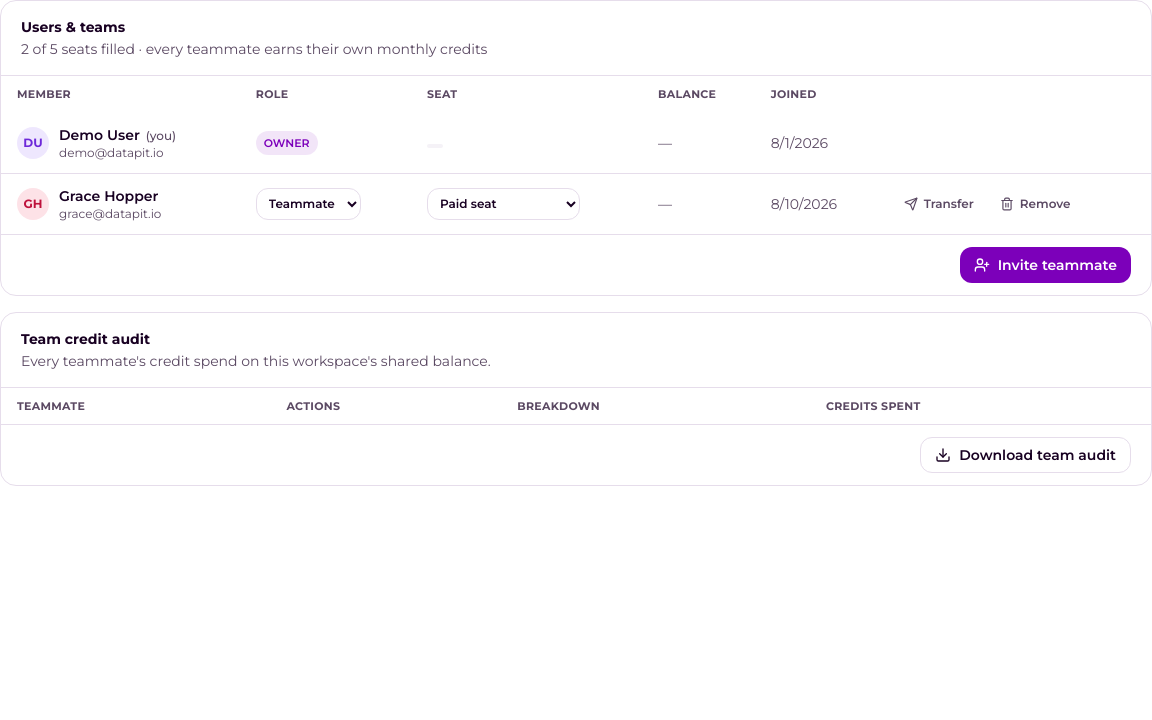
Test: Settings › Members: lists seats, sends an invite, and shows the pending list with a copyable link
Expected: the text "Grace Hopper" is shown, x1=59 y1=186 x2=161 y2=206
Expected: the text "(you)" is shown, x1=146 y1=128 x2=176 y2=142
Click the button "Invite teammate". click: {"x": 1045, "y": 264}
box: x1=960 y1=246 x2=1131 y2=282
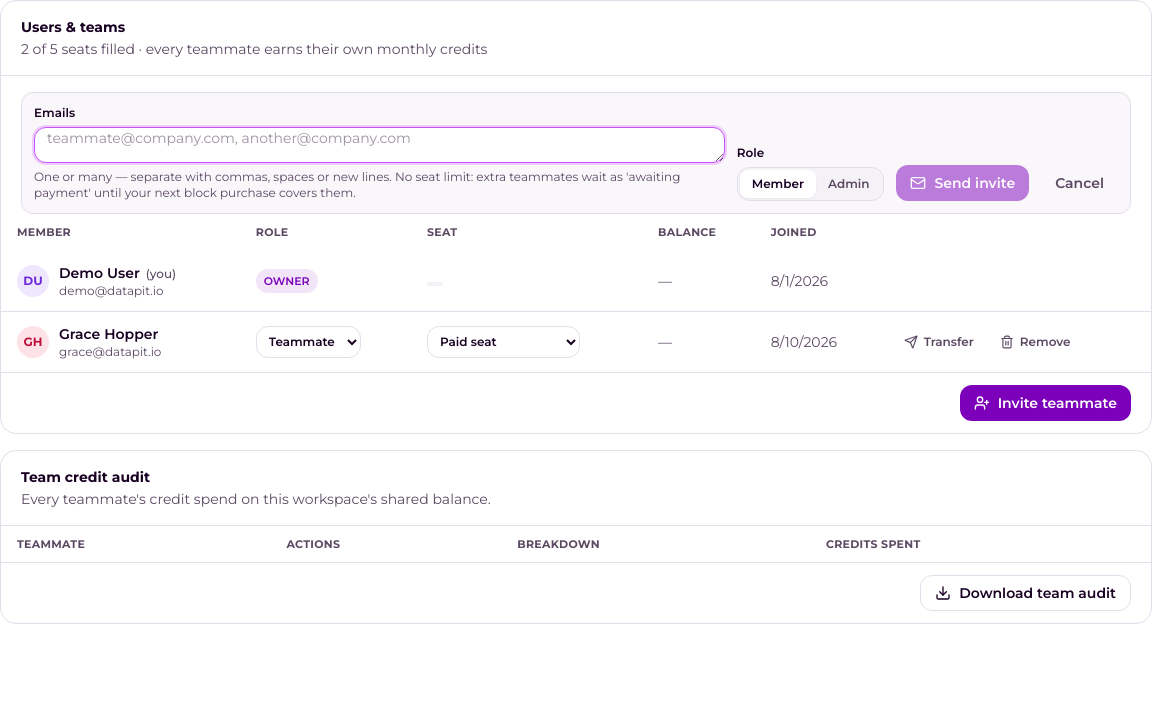
Type "new@hire.test" into the text box labelled "Emails". click: {"x": 379, "y": 145}
box: x1=34 y1=127 x2=725 y2=163
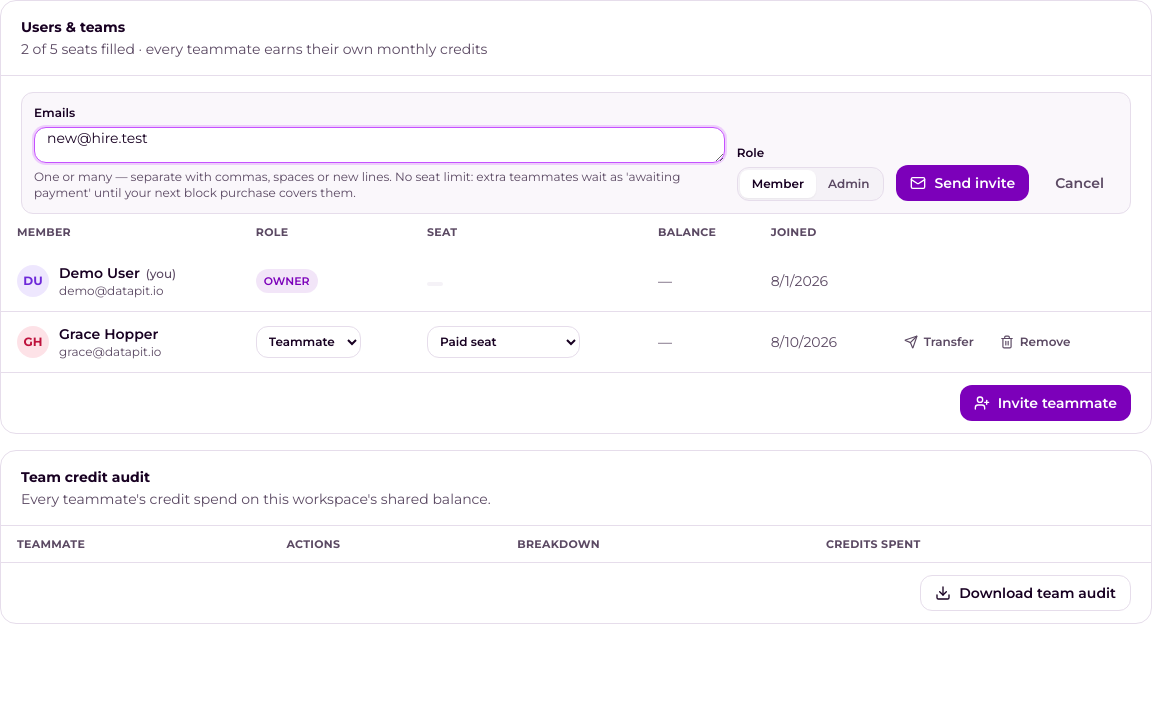
Click the button "Admin". click: {"x": 849, "y": 184}
box: x1=816 y1=170 x2=882 y2=198
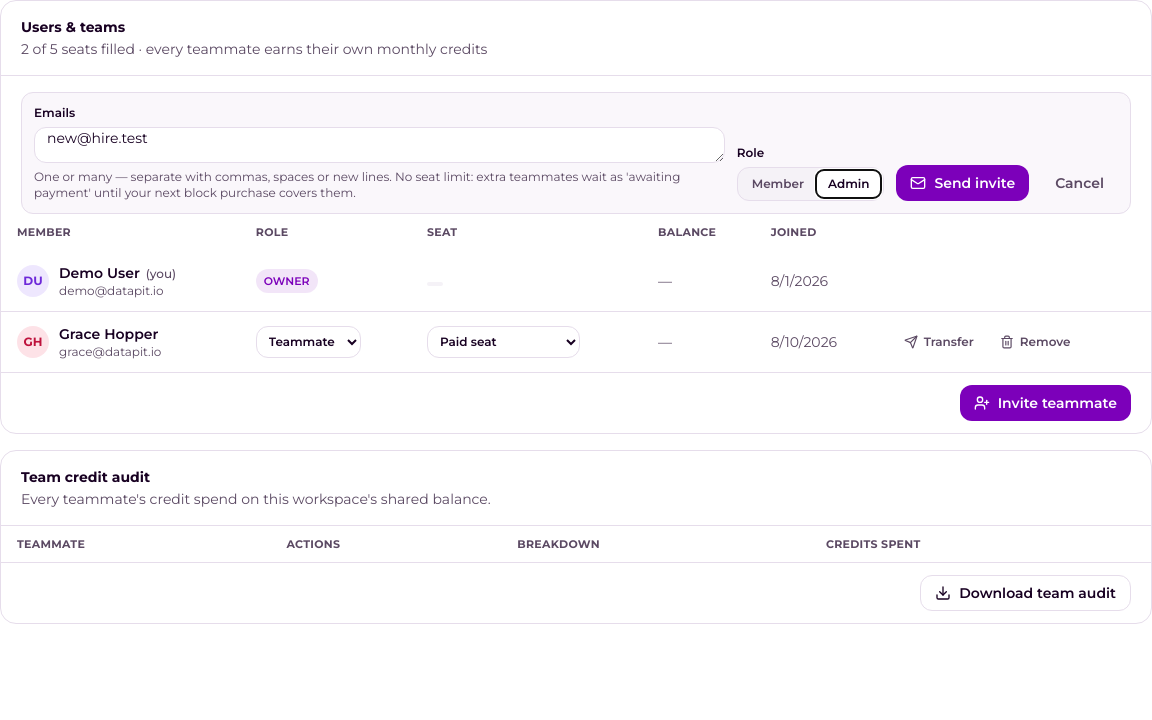
Click the button "Send invite". click: {"x": 963, "y": 183}
box: x1=896 y1=165 x2=1029 y2=201
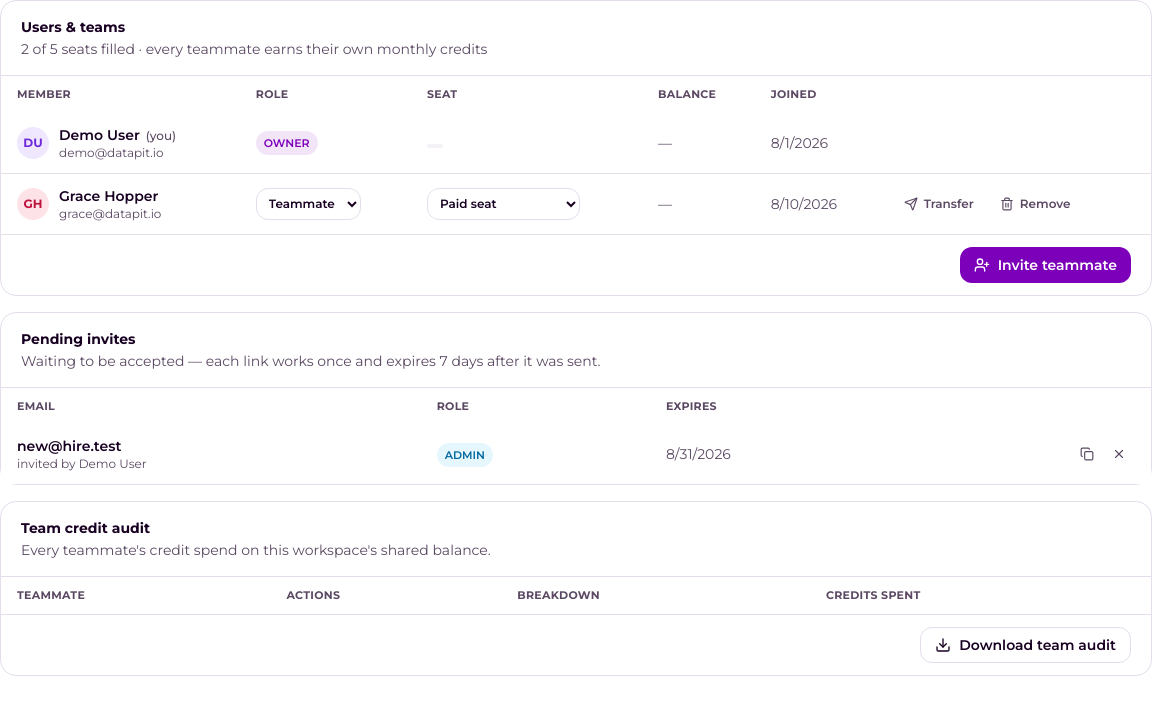
Result: the heading "Pending invites" is shown at x1=21 y1=330 x2=136 y2=348
Result: the text "new@hire.test" is shown at x1=17 y1=437 x2=121 y2=455
Result: the button named "Copy invite link for new@hire.test" is shown at x1=1071 y1=438 x2=1103 y2=470
